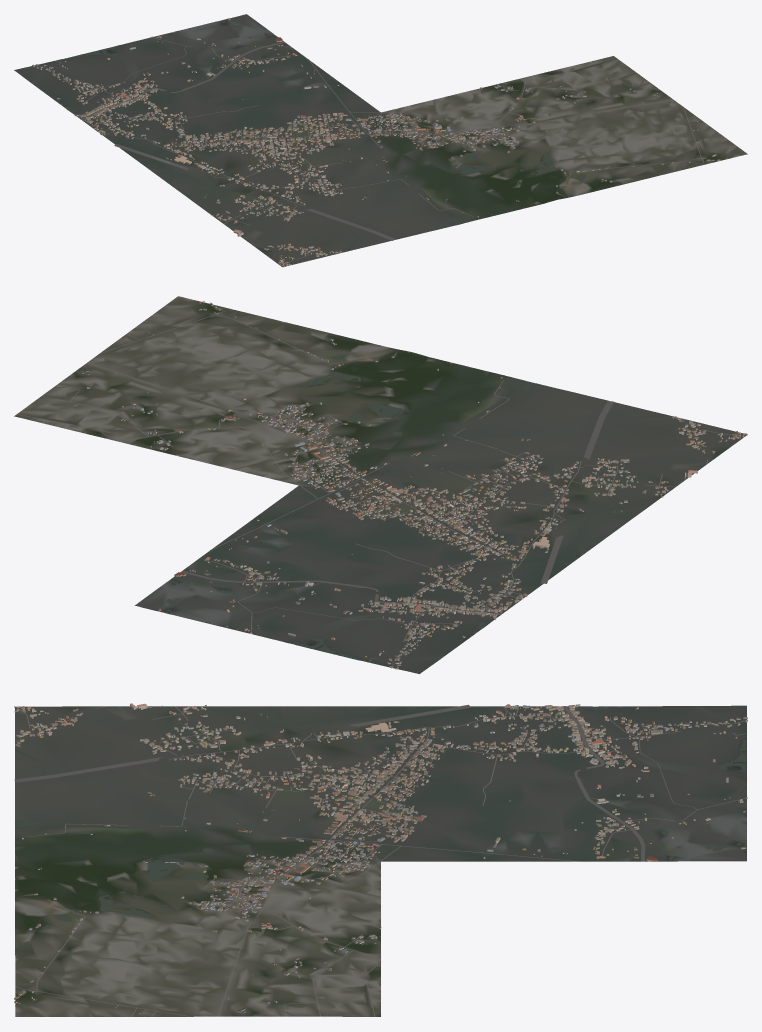
3 views of the same model, one above another, from view 1: azimuth 30°, elevation 25°; view 2: azimuth 150°, elevation 25°; view 3: azimuth 270°, elevation 25° (orthographic). The views are drawn at different scales.
Visible parts, largest first — view 1: ground, buildings, roads, water; view 2: ground, buildings, roads, water; view 3: ground, buildings, roads, water.
Boxes of the visible parts, x1,y1,x2,y2 form: ground: [14, 14, 747, 267]; buildings: [32, 18, 727, 266]; roads: [36, 37, 704, 265]; water: [64, 16, 603, 224]; ground: [14, 296, 747, 673]; buildings: [82, 301, 746, 669]; roads: [17, 309, 744, 667]; water: [147, 346, 536, 659]; ground: [15, 705, 746, 1016]; buildings: [14, 703, 747, 1013]; roads: [14, 704, 746, 1016]; water: [15, 706, 746, 930].
Size of the model in its own units: 2821 by 17.91 by 2811.
